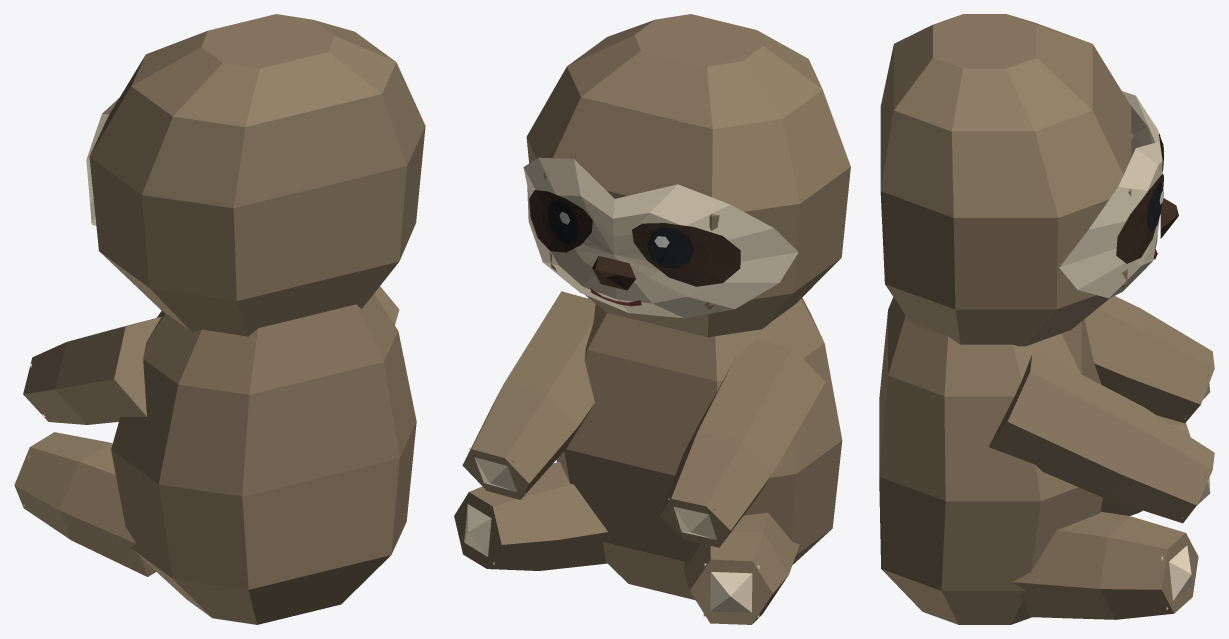
The model's file is sloth_baby.glb.
The picture shows the model from 3 angles, left to right: view 1: azimuth 30°, elevation 25°; view 2: azimuth 150°, elevation 25°; view 3: azimuth 270°, elevation 25°; orthographic projection. The views are drawn at different scales.
Parts seen in each view (by area): view 1: sloth_baby; view 2: sloth_baby; view 3: sloth_baby.
Boxes of the visible parts, left/top/right/bottom form: sloth_baby: left=14, top=14, right=425, bottom=624; sloth_baby: left=454, top=14, right=850, bottom=624; sloth_baby: left=879, top=14, right=1214, bottom=624.
Size of the model in its own units: 0.1806 by 0.2875 by 0.1589.
Materials: 1 (1 with a texture image).
